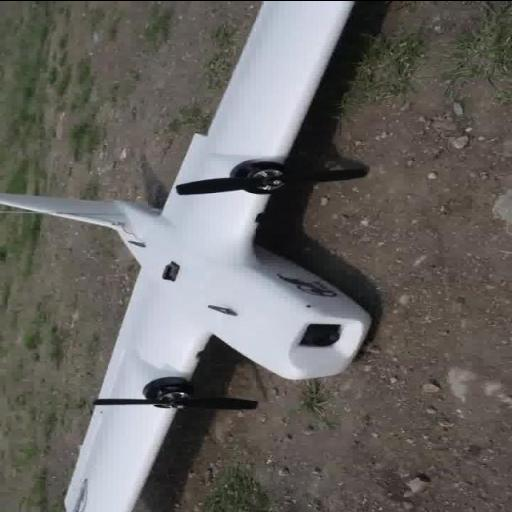uav: (0, 0, 382, 511)
